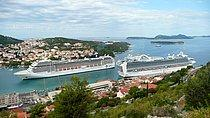Ship: (11, 50, 120, 81), (115, 49, 201, 81)
